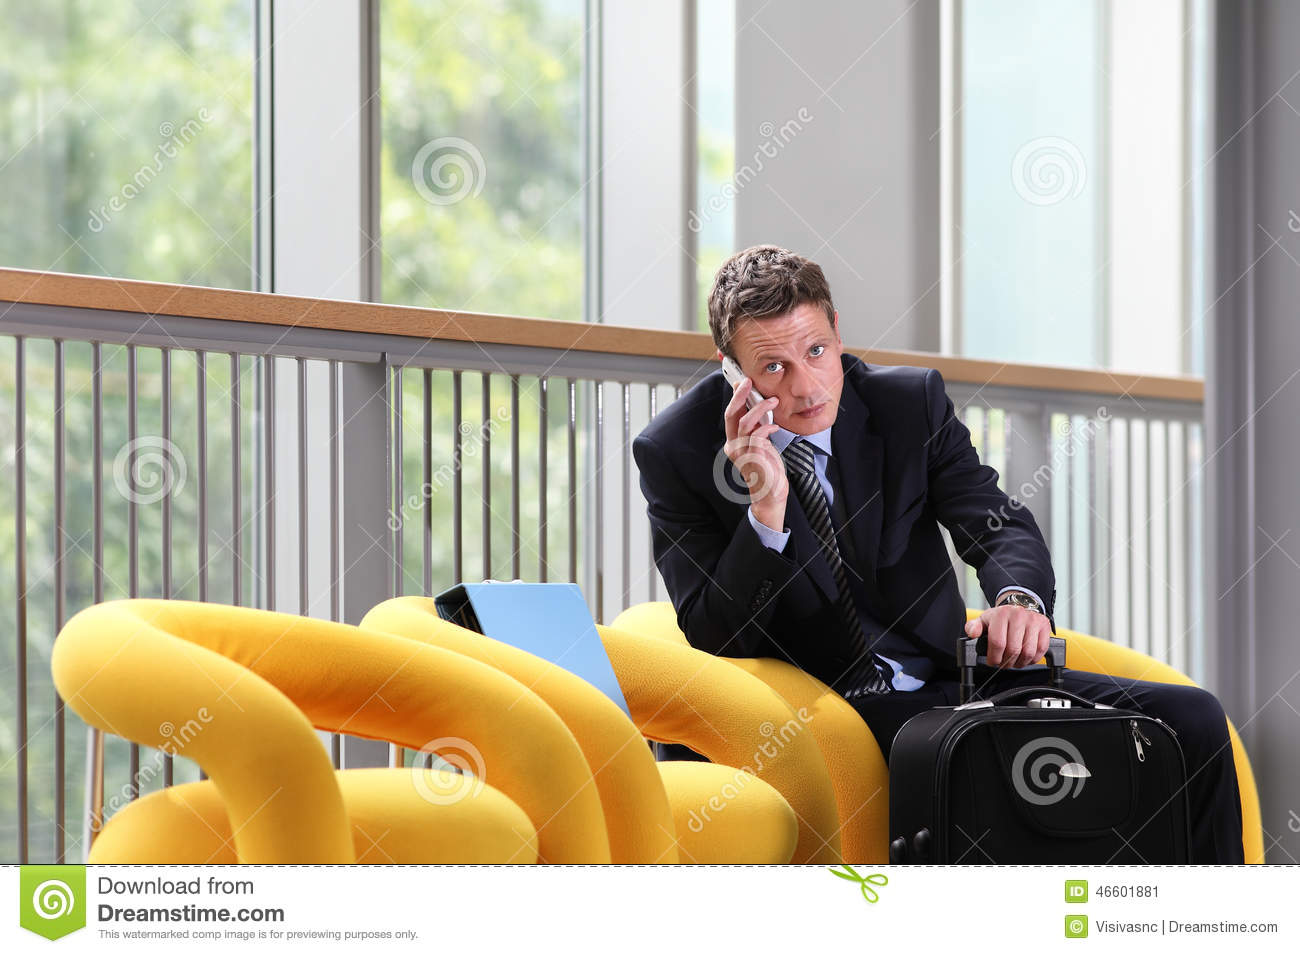phone: (720, 355, 782, 437)
talk: (718, 336, 839, 515)
